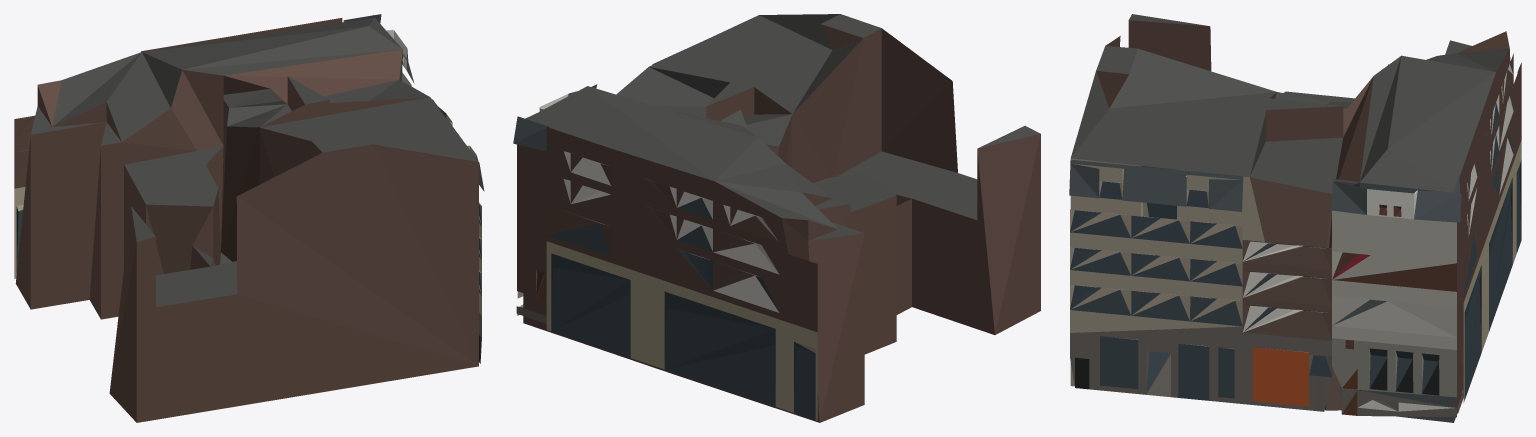
File: cafe-riche-rokin.lod2.glb
3 views of the same model, side by side, from view 1: azimuth 30°, elevation 25°; view 2: azimuth 150°, elevation 25°; view 3: azimuth 270°, elevation 25° (orthographic). The views are drawn at different scales.
Visible parts, largest first — view 1: lod2; view 2: lod2; view 3: lod2.
Boxes of the visible parts, bbox=[...] form: lod2: bbox=[14, 14, 484, 422]; lod2: bbox=[513, 14, 1040, 422]; lod2: bbox=[1069, 14, 1521, 422].
Size of the model in its own units: 37.52 by 21.78 by 33.83.
